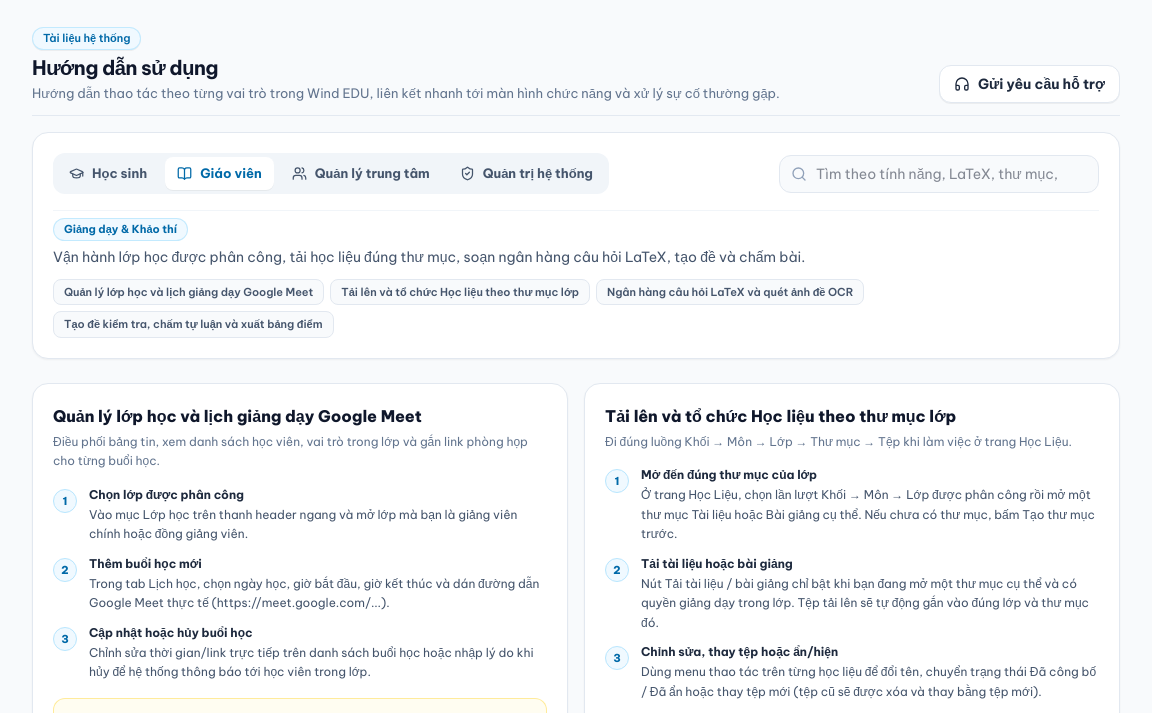
GuideScreen › tự động chọn đúng tab hướng dẫn theo vai trò đang đăng nhập và cho phép chuyển tab
Click the tab "Quản trị hệ thống" at [526, 174], box [448,157,605,190]
(page scrolled)
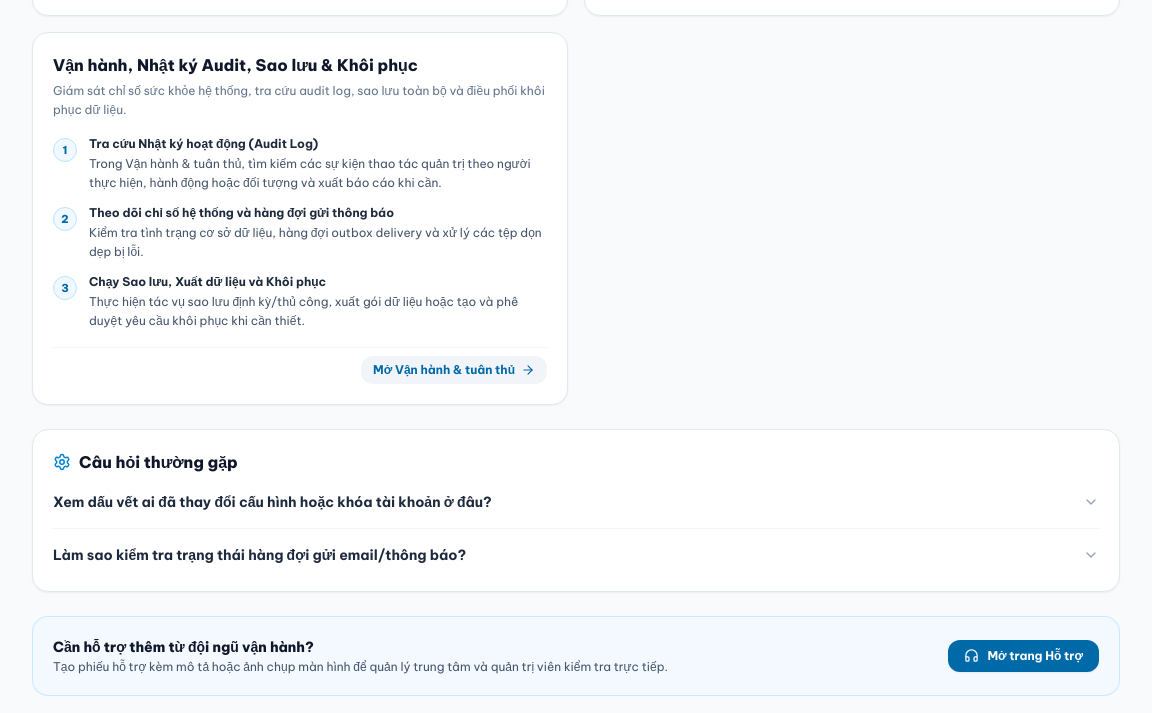
Now the heading "Vận hành, Nhật ký Audit, Sao lưu & Khôi phục" is shown, box [53,55,418,75]
